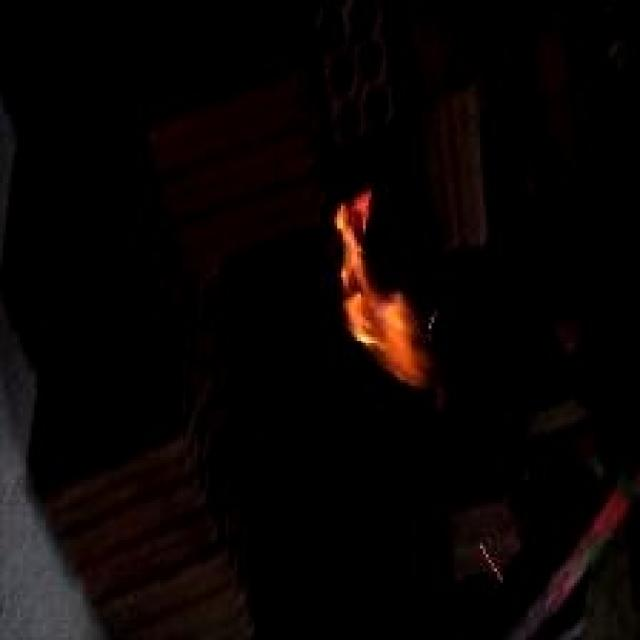fire: (281, 167, 456, 450)
